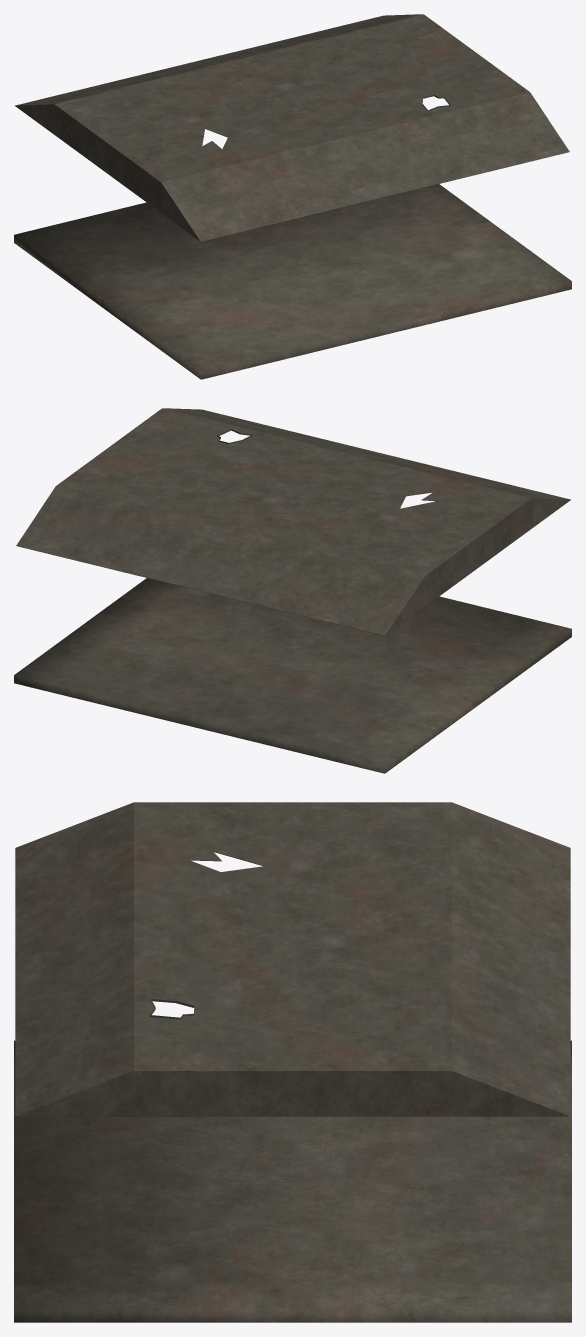
The model's file is Floor1.obj.
3 renders of one model, top to bottom at view 1: azimuth 30°, elevation 25°; view 2: azimuth 150°, elevation 25°; view 3: azimuth 270°, elevation 25°, orthographic. The views are drawn at different scales.
Visible parts, largest first — view 1: Plane.008, Plane.020; view 2: Plane.008, Plane.020; view 3: Plane.008, Plane.020.
Part boxes in pixels (<box>): Plane.008: <box>15,14,569,241</box>; Plane.020: <box>14,184,571,379</box>; Plane.008: <box>16,408,570,635</box>; Plane.020: <box>14,578,571,773</box>; Plane.008: <box>15,802,570,1116</box>; Plane.020: <box>14,1040,571,1322</box>.
Size of the model in its own units: 33.83 by 14.75 by 29.55.
